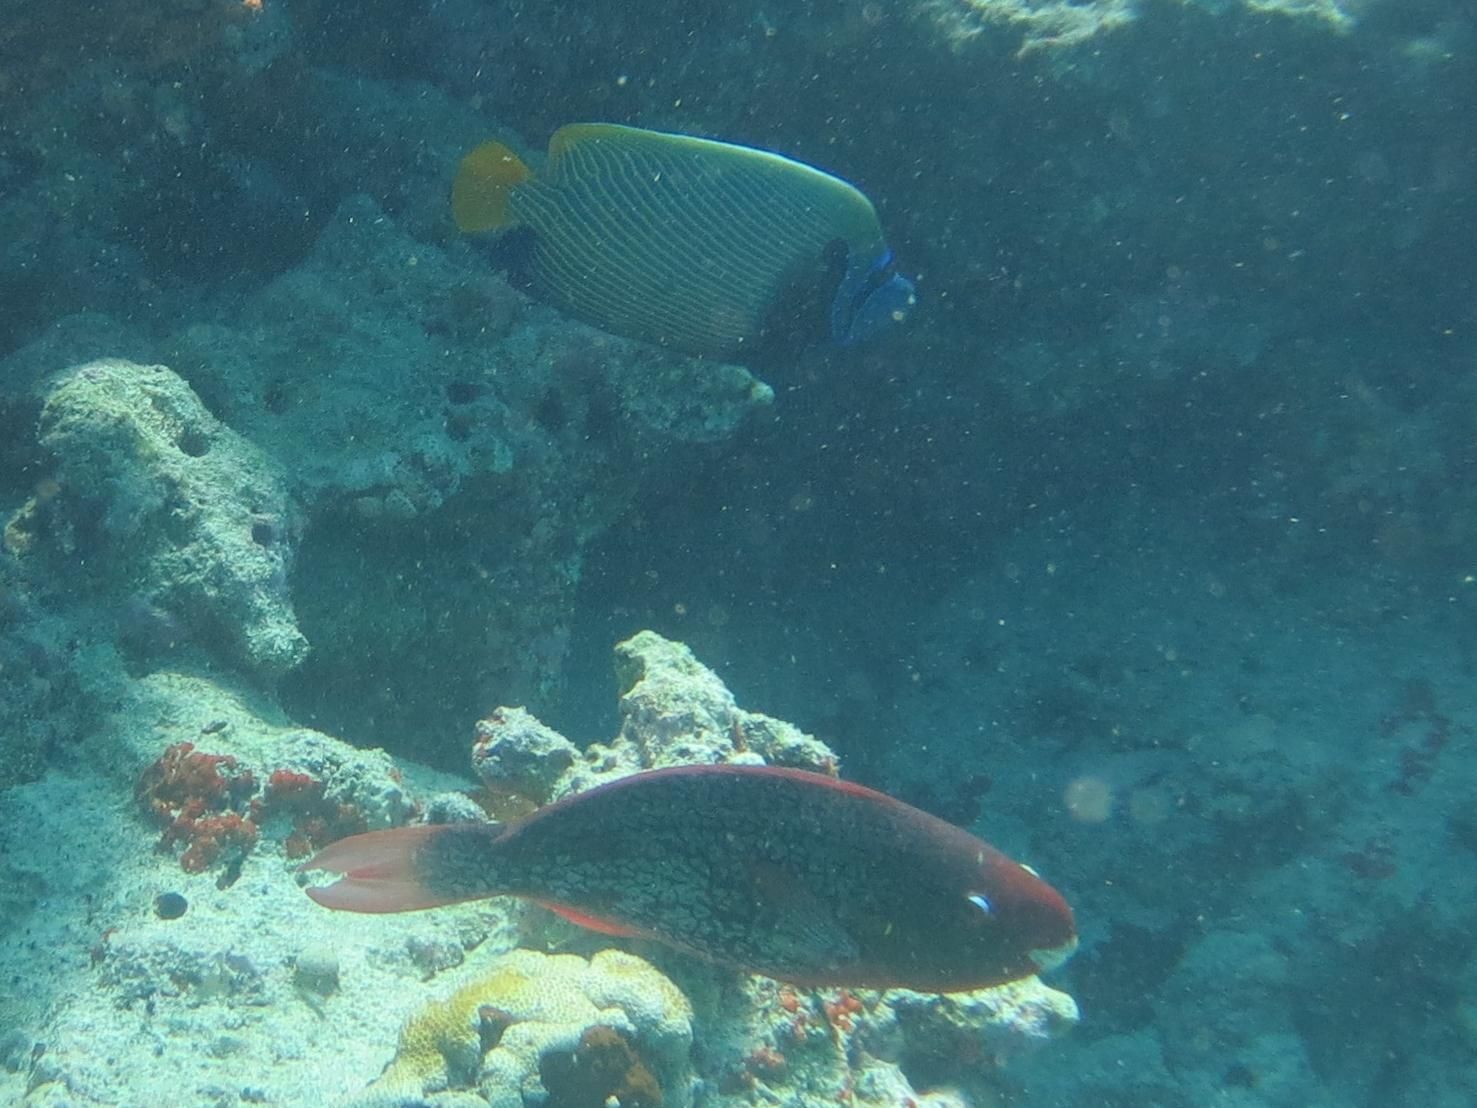Scarus rubroviolaceus: (150, 628, 1122, 1070)
